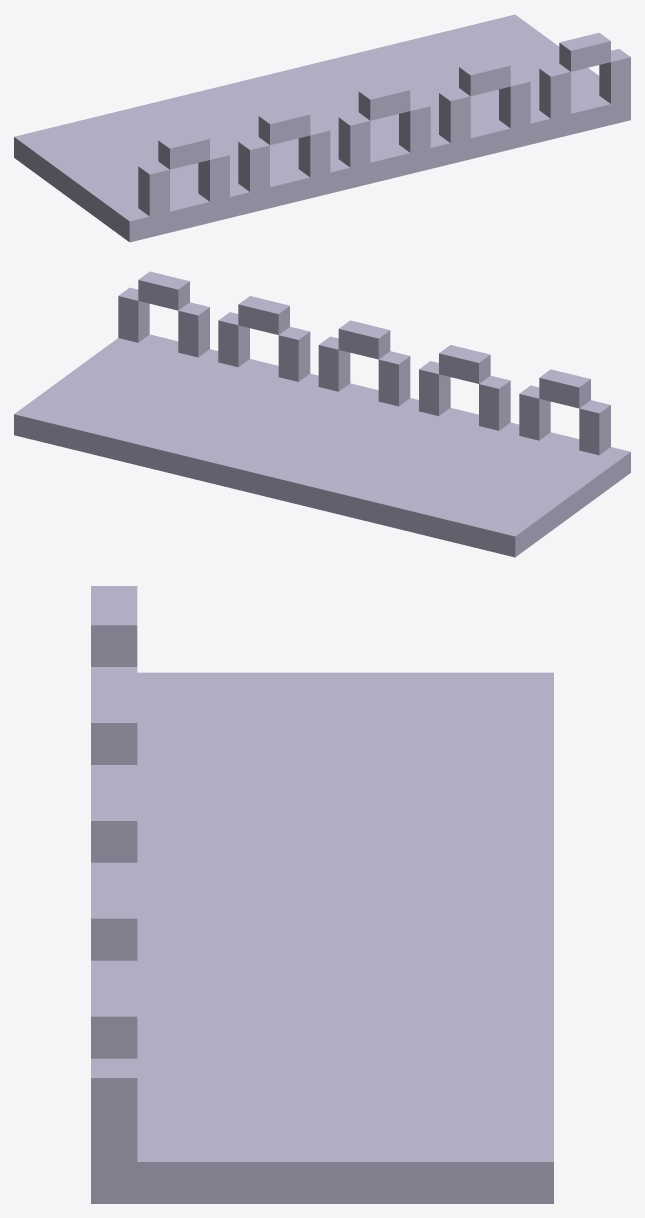
File: Roof1.obj
3 renders of one model, top to bottom at view 1: azimuth 30°, elevation 25°; view 2: azimuth 150°, elevation 25°; view 3: azimuth 270°, elevation 25°, orthographic. The views are drawn at different scales.
Visible parts, largest first — view 1: BuildingPieces.002; view 2: BuildingPieces.002; view 3: BuildingPieces.002.
Boxes of the visible parts, <box> form: BuildingPieces.002: <box>14,14,630,242</box>; BuildingPieces.002: <box>14,271,630,557</box>; BuildingPieces.002: <box>91,586,553,1203</box>.
Bounding box in the file's own units: 2.5 × 0.4 × 1.
